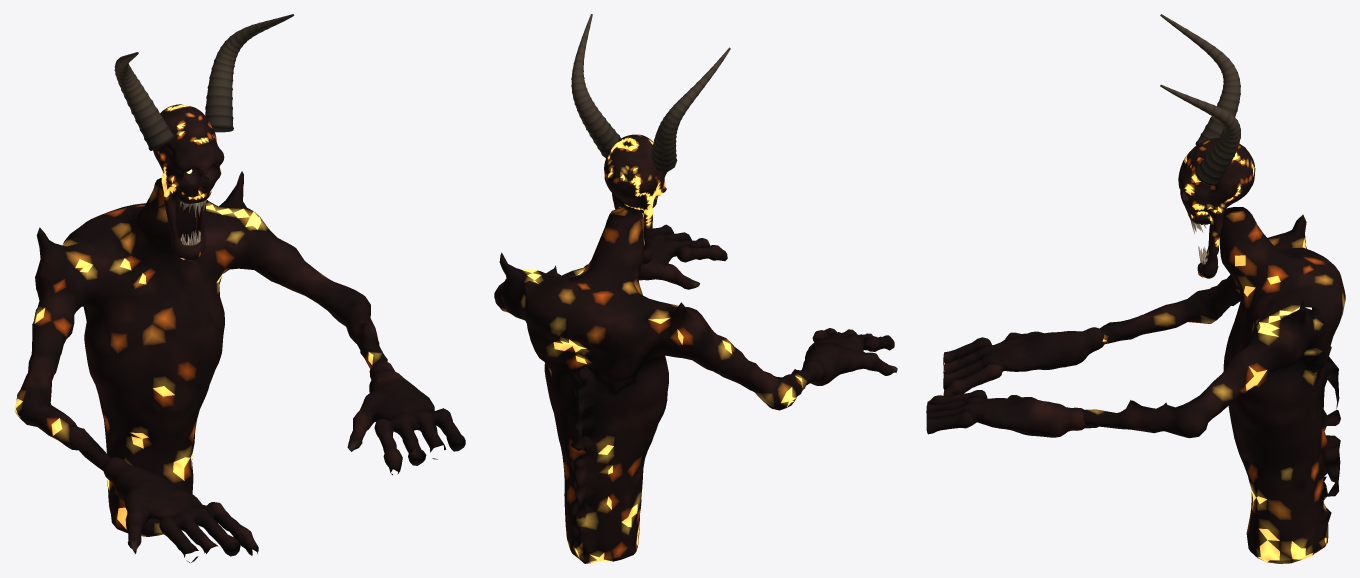
The model's file is demon_xlo.glb.
3 views of the same model, side by side, from view 1: azimuth 30°, elevation 25°; view 2: azimuth 150°, elevation 25°; view 3: azimuth 270°, elevation 25° (orthographic). The views are drawn at different scales.
Parts seen in each view (by area): view 1: demon; view 2: demon; view 3: demon.
Boxes of the visible parts, x1=… form: demon: x1=14, y1=14, x2=465, y2=562; demon: x1=494, y1=14, x2=897, y2=563; demon: x1=926, y1=14, x2=1345, y2=563.
Bounding box in the file's own units: 2.21 × 3.32 × 2.51.
